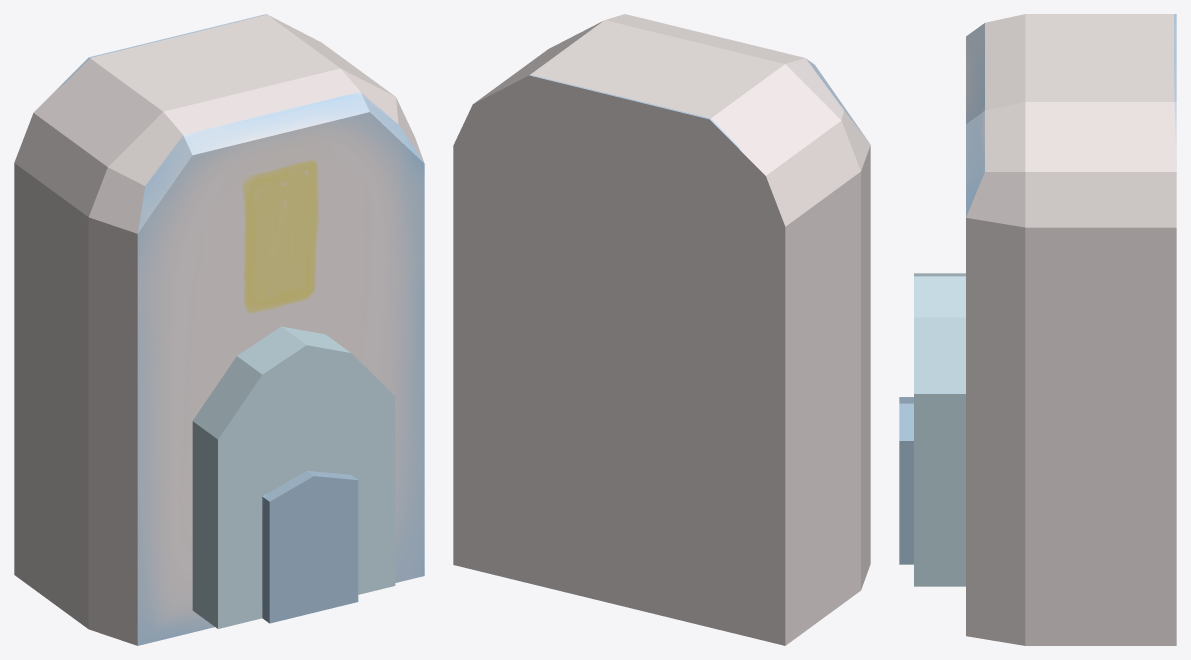
Rendered from soapDispenser.fbx.
3 renders of one model, left to right at view 1: azimuth 30°, elevation 25°; view 2: azimuth 150°, elevation 25°; view 3: azimuth 270°, elevation 25°, orthographic.
Parts seen in each view (by area): view 1: soap-dispenser; view 2: soap-dispenser; view 3: soap-dispenser.
Part boxes in pixels (x1,y1,x2,y2): soap-dispenser: (14,14,424,645); soap-dispenser: (453,14,870,645); soap-dispenser: (899,14,1176,645).
Bounding box in the file's own units: 103 × 150 × 74.23.
